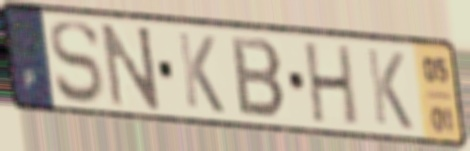B: (228, 33, 290, 122)
H: (303, 40, 361, 130)
K: (363, 45, 416, 134), (174, 29, 227, 117)
N: (97, 20, 164, 112)
S: (46, 18, 105, 107)
